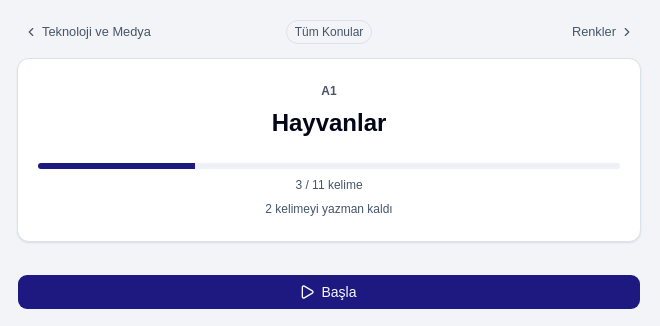
Test: StudyHomePage › browses adjacent topics on the home surface without starting work
Expected: the heading "Hayvanlar" is shown, [272, 107, 386, 139]
Expected: the button with aria-label "Önceki konu: Teknoloji ve Medya" is enabled, [17, 18, 262, 46]
Click the button with aria-label "Sonraki konu: Renkler" at [519, 32], box [396, 18, 641, 46]
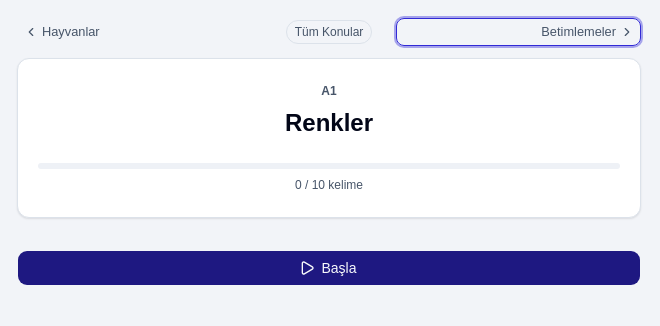
Expected: the button with aria-label "Önceki konu: Hayvanlar" is enabled, [17, 18, 262, 46]
Result: the heading "Renkler" is shown at [285, 107, 373, 139]
